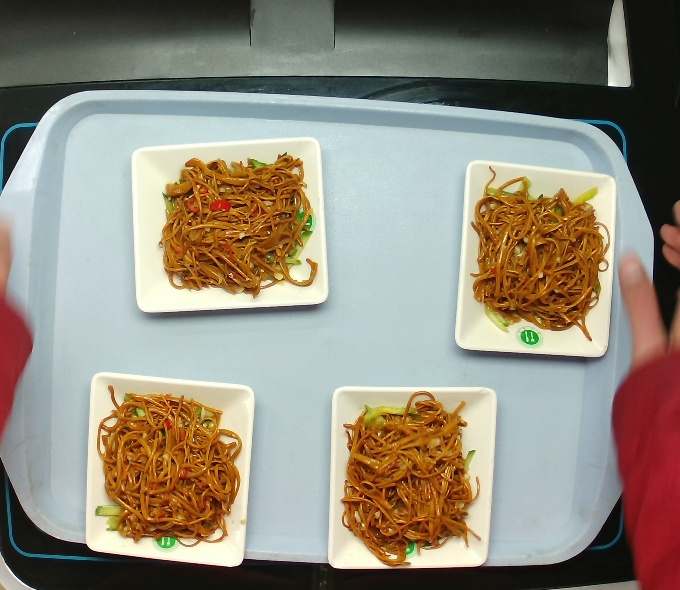wcq-LiangBanChongCaoHua: (153, 146, 331, 304), (336, 393, 489, 568), (93, 378, 242, 556), (466, 162, 609, 345)
